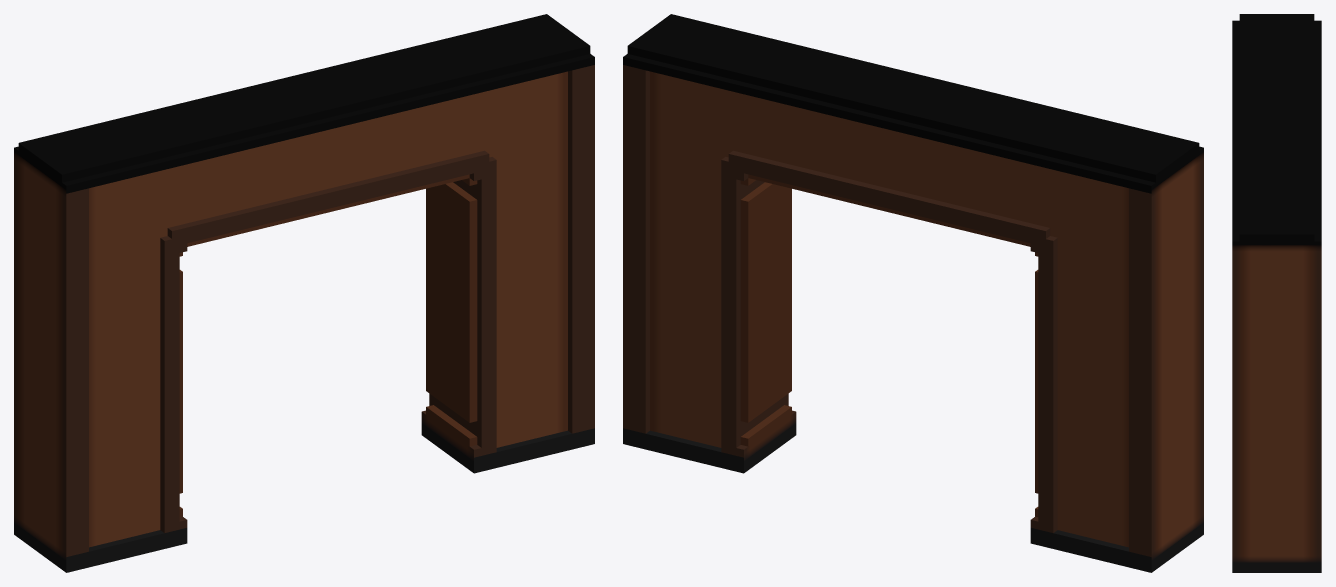
The model's file is Door-Wood-Model-01.fbx.
3 renders of one model, left to right at view 1: azimuth 30°, elevation 25°; view 2: azimuth 150°, elevation 25°; view 3: azimuth 270°, elevation 25°, orthographic. The views are drawn at different scales.
Visible parts, largest first — view 1: Door-Wood-Model-01; view 2: Door-Wood-Model-01; view 3: Door-Wood-Model-01.
Part boxes in pixels (left/top/right/bottom): Door-Wood-Model-01: left=14, top=14, right=594, bottom=572; Door-Wood-Model-01: left=623, top=14, right=1203, bottom=572; Door-Wood-Model-01: left=1232, top=14, right=1321, bottom=572.
Bounding box in the file's own units: 70 × 50 × 12.
Materials: 1 (1 with a texture image).
